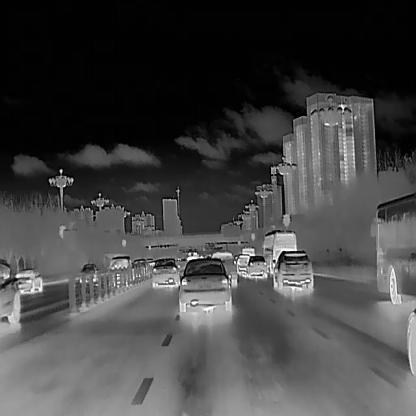car: (369, 191, 416, 304), (178, 258, 232, 311), (261, 227, 297, 273), (272, 249, 313, 289), (0, 258, 23, 325), (207, 250, 238, 288), (152, 257, 180, 287), (13, 268, 43, 293), (108, 256, 131, 286), (245, 254, 267, 278), (234, 252, 252, 275), (130, 257, 148, 279), (79, 262, 98, 282), (185, 249, 197, 261), (241, 245, 254, 256)
